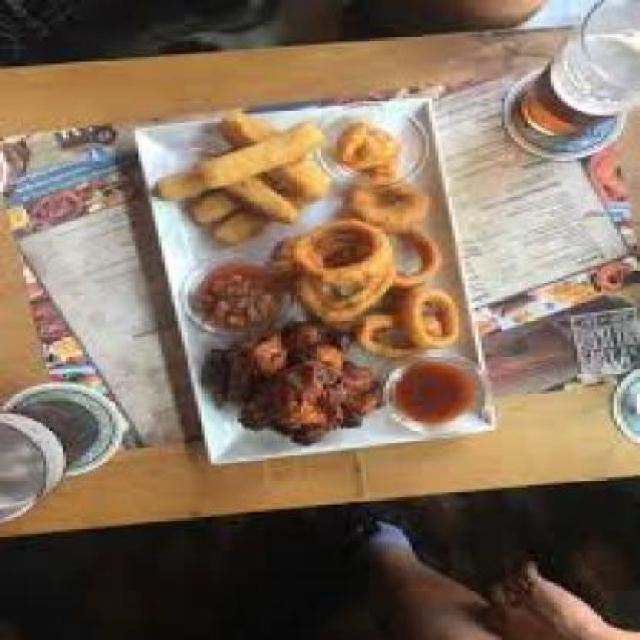chicken wings: (189, 322, 396, 441)
onion rings: (264, 197, 482, 361)
